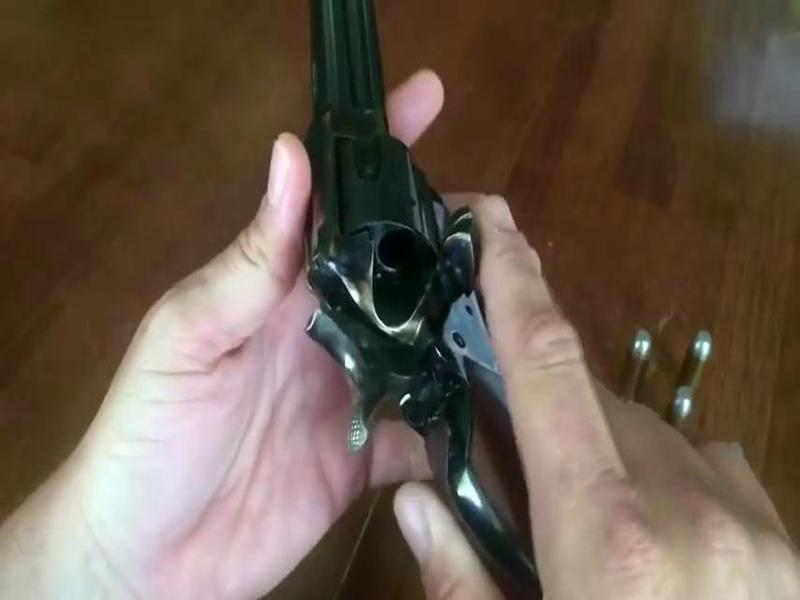Revolver: (237, 5, 551, 551)
